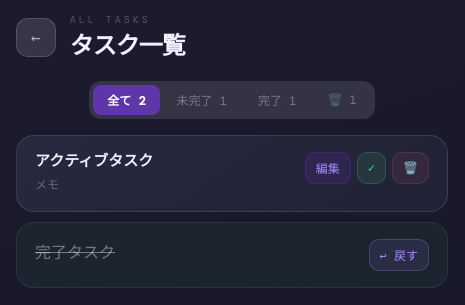
ListView — フィルター表示 › ゴミ箱: trash のみ表示
The width and height of the screenshot is (465, 305).
Click the button "🗑️ 1": (342, 100) [313,85,371,115]
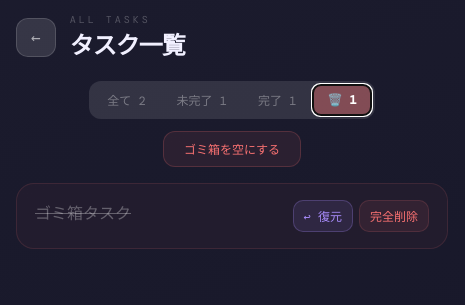
Expected: the text "ゴミ箱タスク" is shown, [35,203,131,224]
Expected: the text "アクティブタスク" is gone
